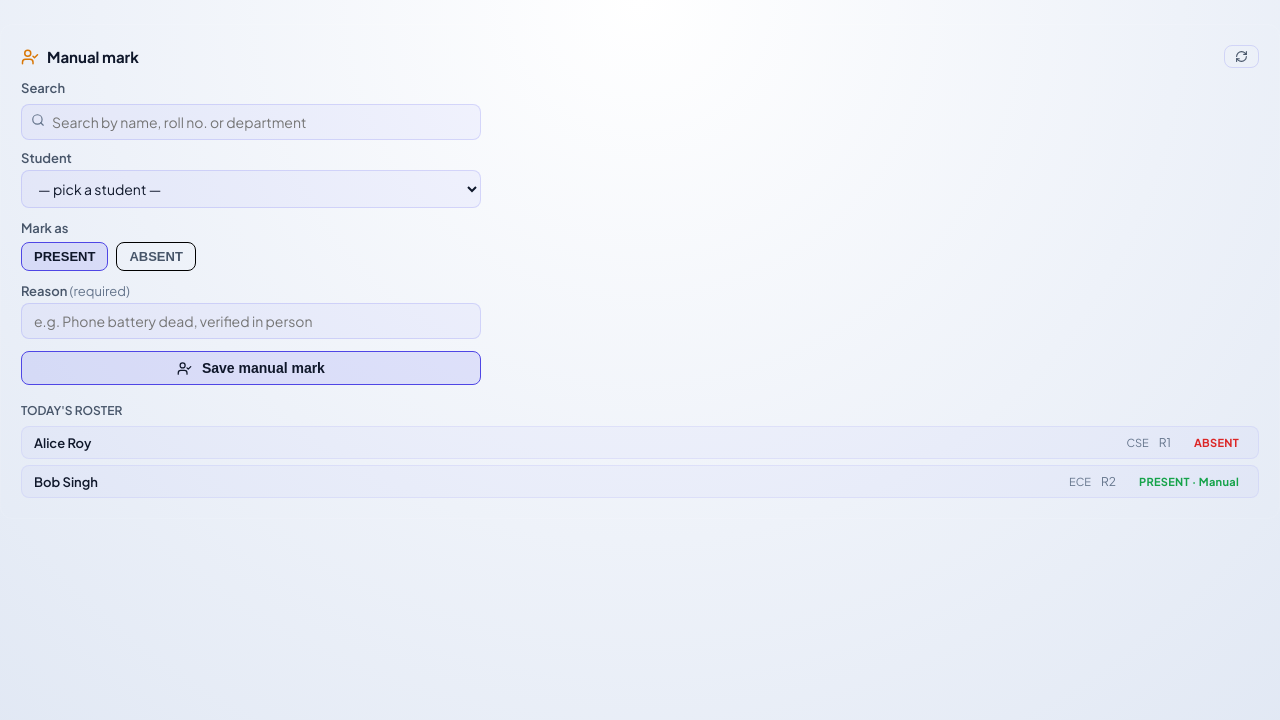
Scenario: ManualMarkSection › submits a manual mark and refreshes the roster afterwards
Expected: the text "Alice Roy" is shown, top-left (34, 434), bottom-right (91, 450)
Select "Alice Roy (R1) — ABSENT" in the dropdown labelled "Student": [251, 189] box top-left (21, 170), bottom-right (481, 208)
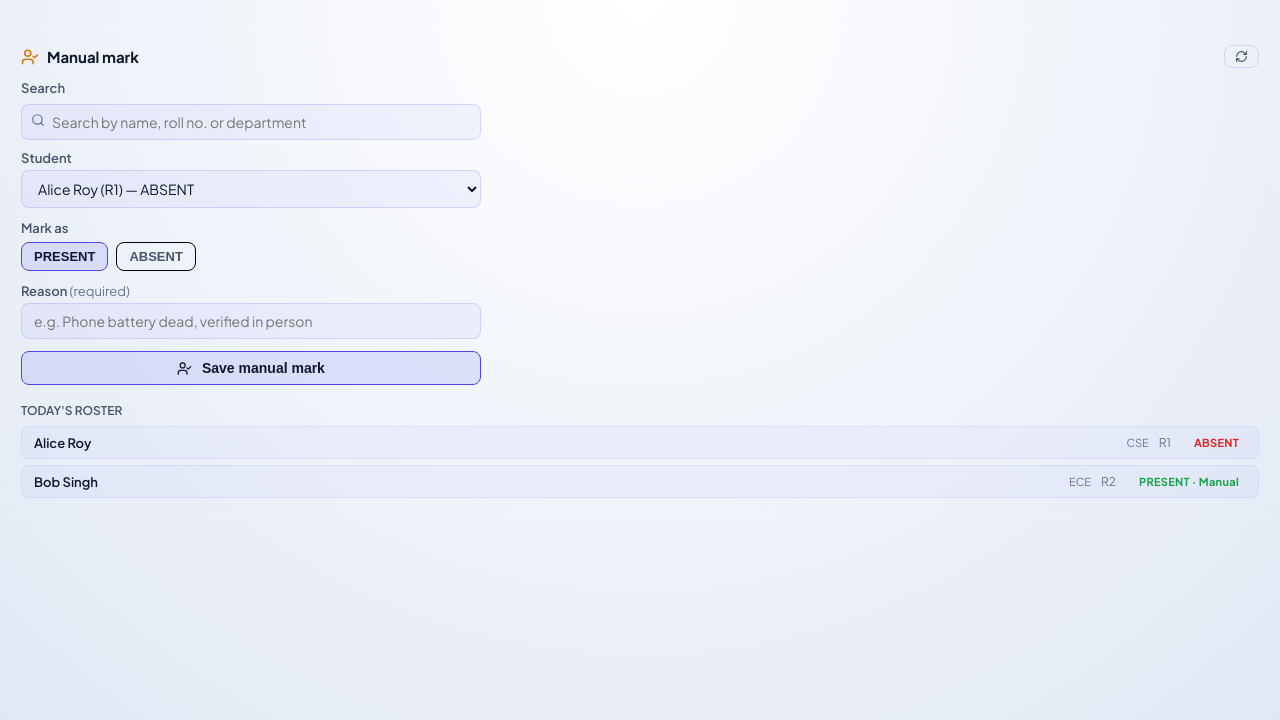
Click the button "PRESENT": [65, 256] box top-left (21, 242), bottom-right (108, 271)
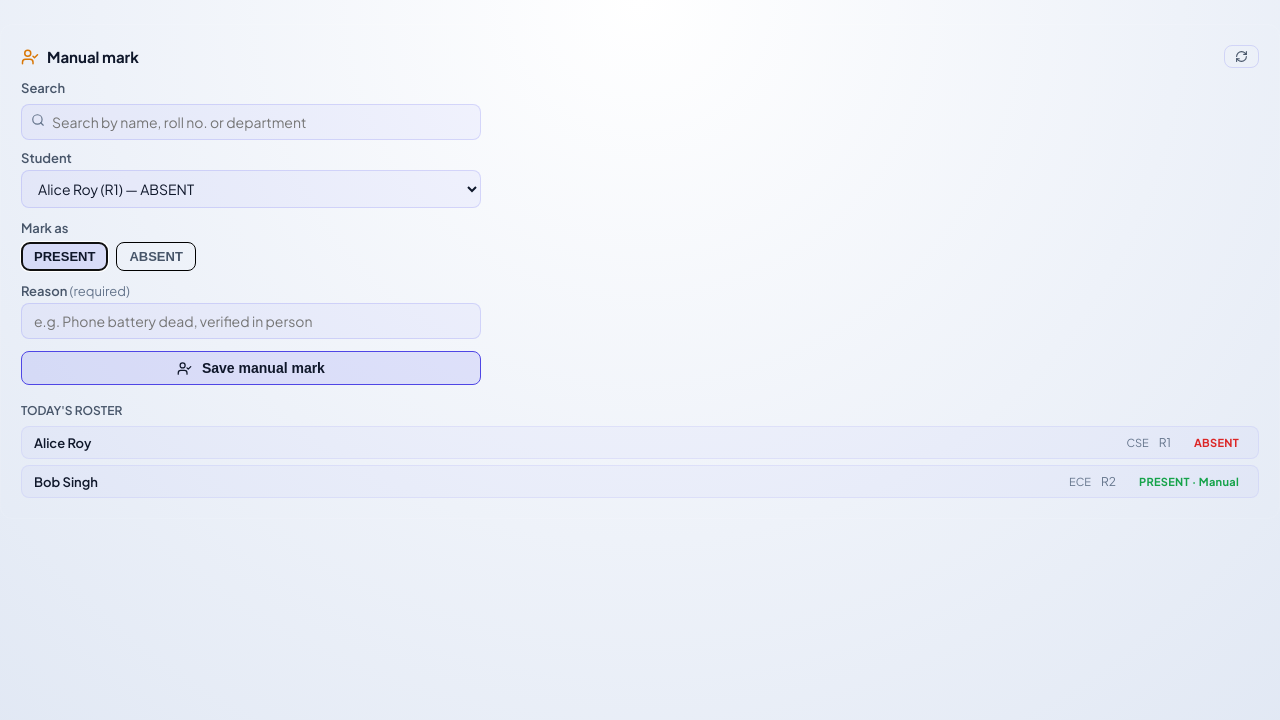
In the field with placeholder "e.g. Phone battery dead, verified in person": [251, 321] box top-left (21, 303), bottom-right (481, 339), type "Verified in person"
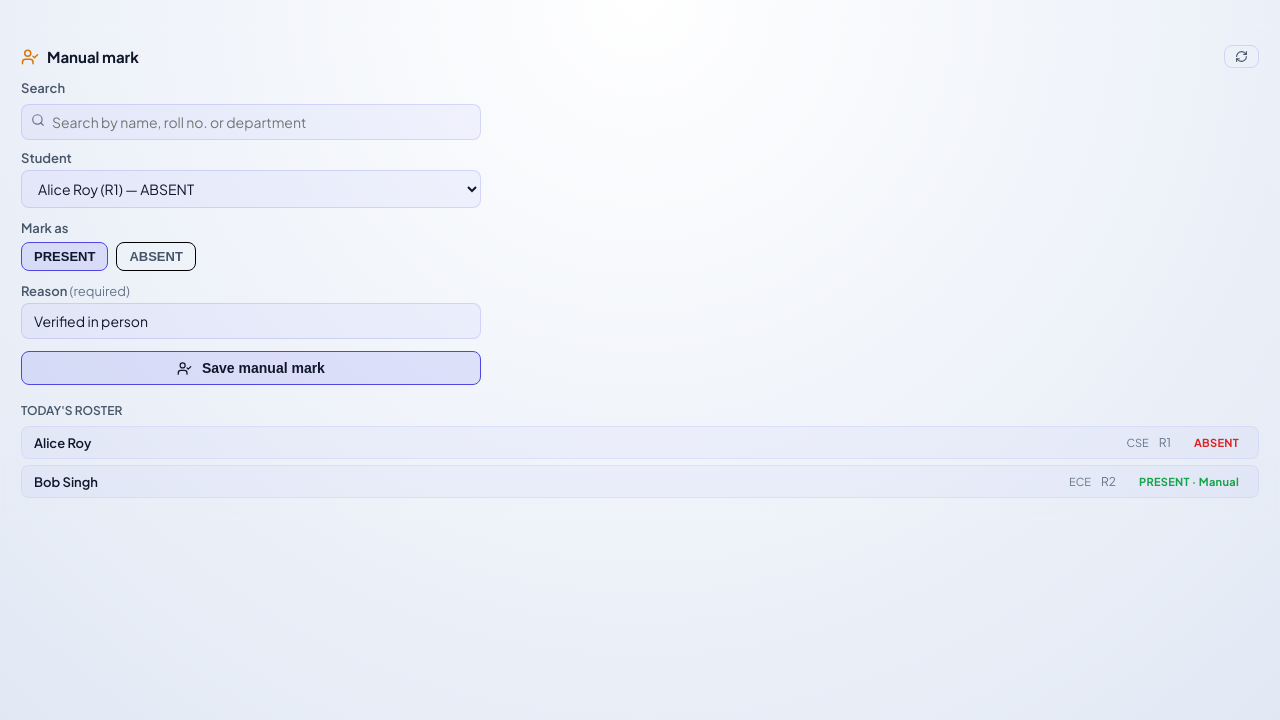
Click the button "Save manual mark": [251, 368] box top-left (21, 351), bottom-right (481, 385)
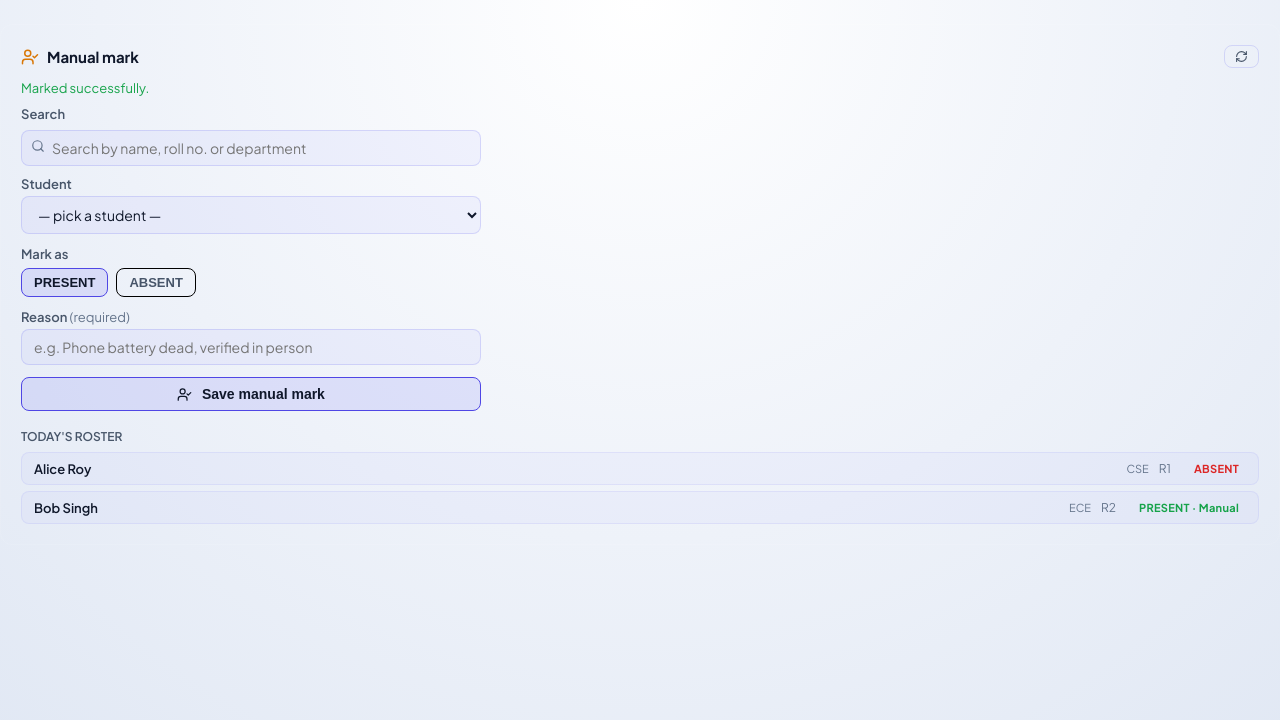
Expected: the message shows "Marked successfully", top-left (21, 80), bottom-right (149, 96)
